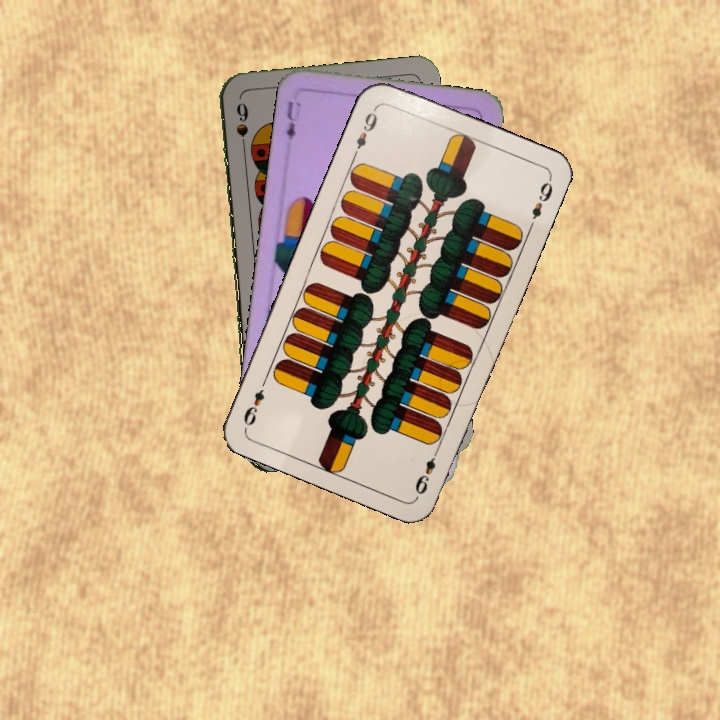E9: (411, 443, 443, 498), (349, 104, 380, 160)
EU: (282, 97, 299, 143)
S9: (232, 98, 250, 156)
